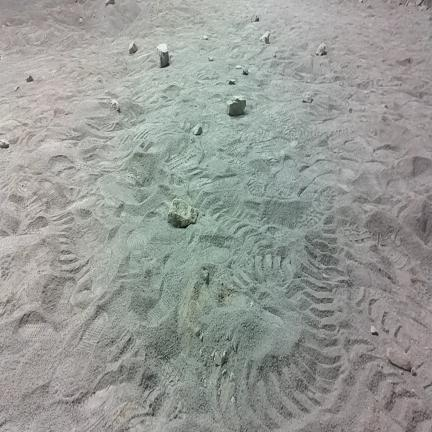Rock: (168, 198, 198, 227), (387, 348, 411, 371), (227, 97, 246, 115), (157, 43, 169, 68), (260, 31, 270, 43), (110, 100, 120, 112), (316, 43, 326, 55), (303, 92, 313, 103), (192, 125, 202, 136), (397, 58, 410, 66), (129, 42, 137, 54), (215, 353, 222, 366), (251, 14, 260, 22), (0, 140, 9, 148), (371, 326, 378, 335), (106, 0, 114, 7), (222, 351, 227, 362), (419, 5, 428, 11), (26, 75, 33, 82), (195, 328, 200, 337), (416, 0, 423, 6), (200, 333, 204, 342), (411, 368, 416, 375), (222, 369, 227, 375), (243, 69, 248, 75), (229, 79, 235, 84), (14, 86, 19, 91), (236, 65, 241, 69), (367, 5, 372, 9), (7, 22, 11, 26), (209, 57, 213, 61), (203, 36, 207, 40), (428, 16, 431, 21), (79, 18, 82, 23), (359, 0, 363, 3)
